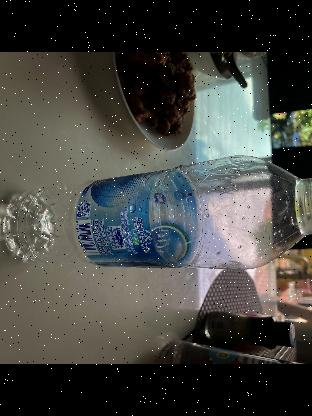Plastic Bottle: (0, 152, 312, 271)
